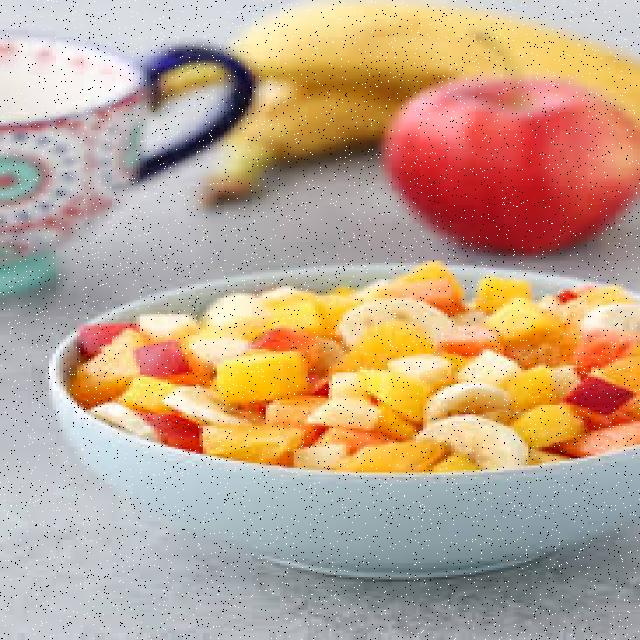Apple: (391, 75, 640, 251)
